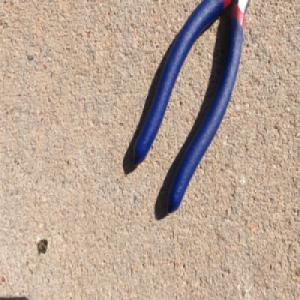Pliers: (130, 0, 251, 217)
